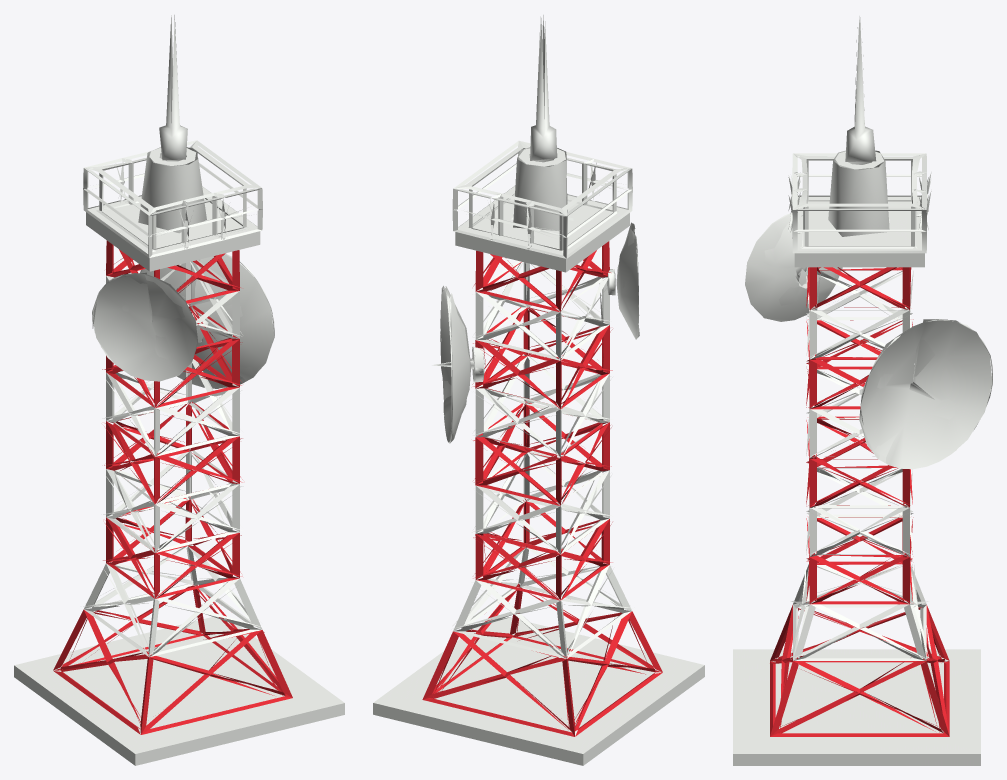
File: communication.glb
3 renders of one model, left to right at view 1: azimuth 30°, elevation 25°; view 2: azimuth 150°, elevation 25°; view 3: azimuth 270°, elevation 25°, orthographic. The views are drawn at different scales.
Visible parts, largest first — view 1: COmunitation; view 2: COmunitation; view 3: COmunitation.
Boxes of the visible parts, bbox=[...] form: COmunitation: bbox=[14, 15, 344, 765]; COmunitation: bbox=[373, 15, 704, 765]; COmunitation: bbox=[733, 16, 992, 765].
Bounding box in the file's own units: 204 × 635 × 215.
1 material, 1 textured.
